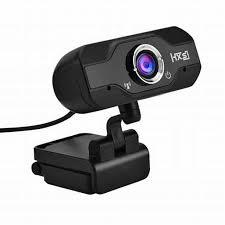webcam: (32, 26, 200, 192)
